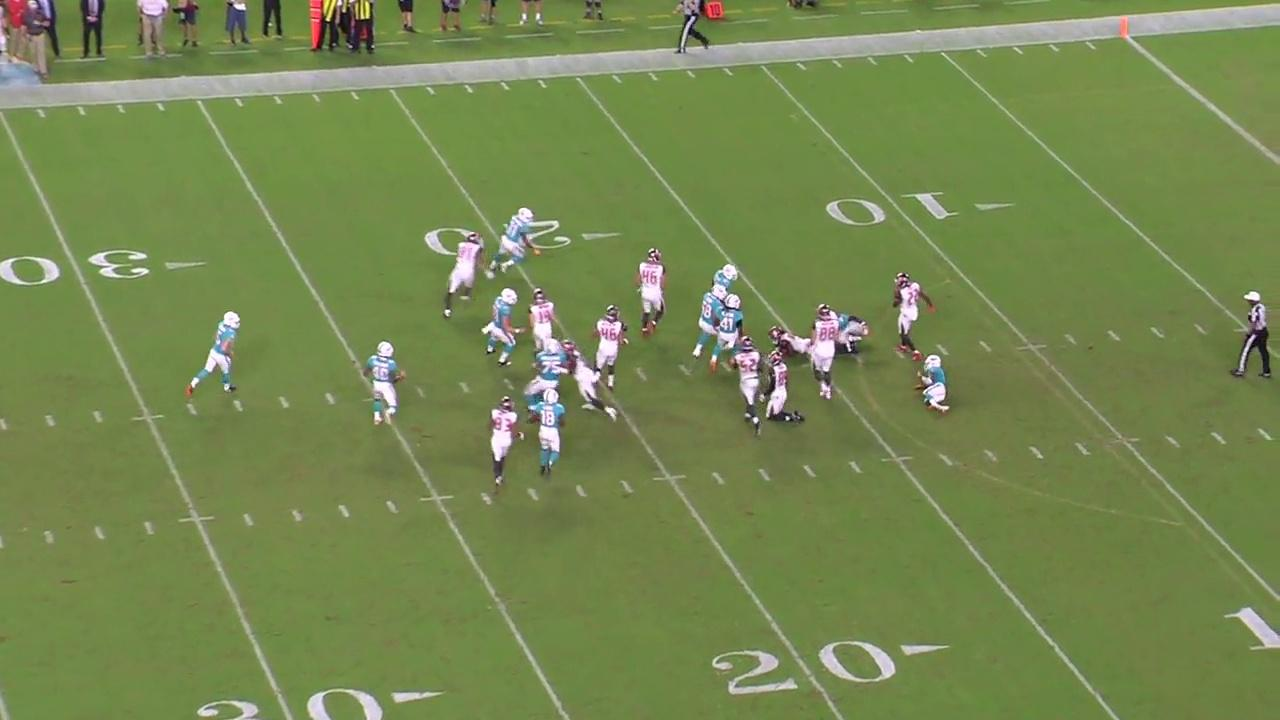five_hash: (418, 492, 457, 504), (130, 412, 167, 423), (176, 514, 216, 524), (650, 473, 689, 483), (878, 454, 916, 463), (1015, 343, 1049, 353), (1107, 435, 1140, 445)
hash: (1025, 442, 1048, 463), (1254, 424, 1275, 445), (935, 451, 956, 471), (755, 465, 775, 485), (476, 491, 497, 510), (1163, 432, 1183, 451), (1072, 439, 1092, 458), (981, 447, 1001, 466), (799, 462, 819, 481), (1105, 327, 1124, 346), (617, 477, 636, 496), (382, 498, 401, 517), (42, 410, 60, 430), (1208, 429, 1228, 447), (572, 482, 590, 502), (846, 457, 864, 476), (709, 469, 728, 487), (1147, 324, 1166, 341), (524, 485, 541, 504), (90, 523, 107, 542), (141, 518, 157, 538), (335, 502, 352, 520), (288, 507, 305, 525), (239, 511, 256, 529), (41, 529, 58, 547), (321, 391, 340, 407), (1061, 331, 1080, 347), (182, 401, 200, 417), (90, 408, 106, 425), (934, 341, 951, 357), (457, 379, 472, 396), (678, 364, 695, 379), (976, 340, 995, 353), (276, 394, 292, 409), (1192, 321, 1208, 336), (231, 397, 246, 412), (634, 367, 649, 382), (0, 416, 11, 431)
marker: (307, 0, 323, 52)
number: (707, 638, 901, 699), (0, 245, 158, 286), (823, 188, 965, 230)
player: (1118, 14, 1131, 37)
